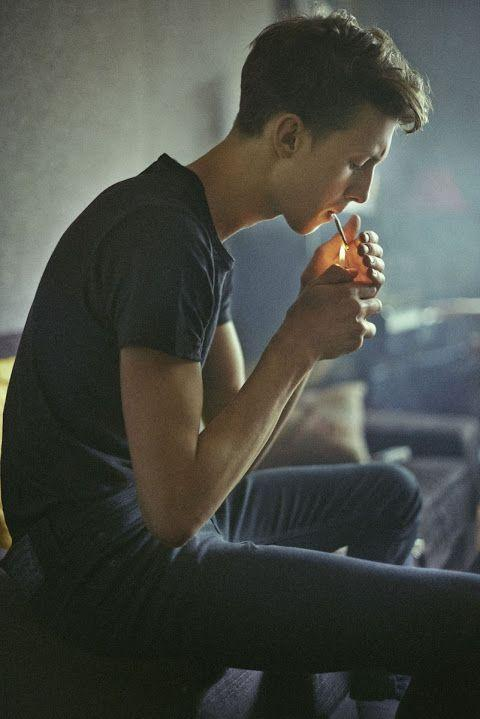cigarette: (328, 212, 350, 253)
